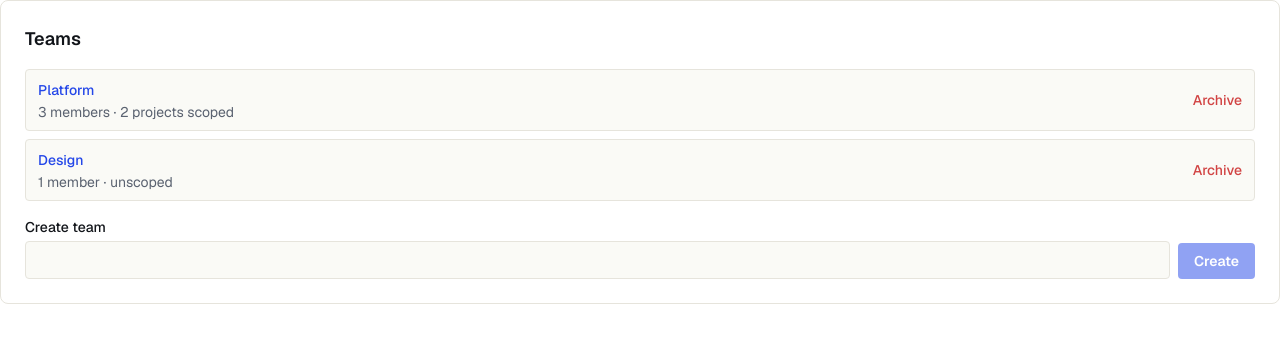
Scenario: TeamList › shows an inline error on a 409 duplicate-name failure without losing existing state
Type "Platform" into the field labelled "Create team" at (598, 260), box [25,241,1170,279]
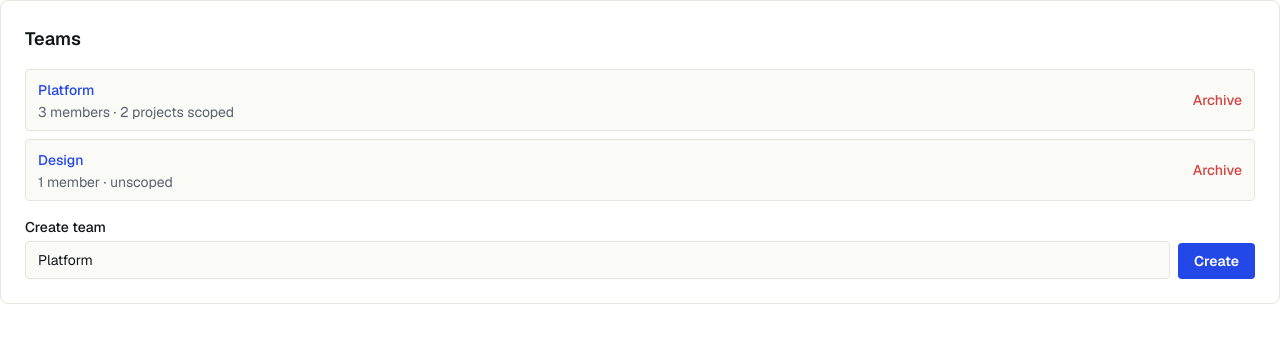
Click the button "Create" at (1216, 261), box [1178,243,1255,279]
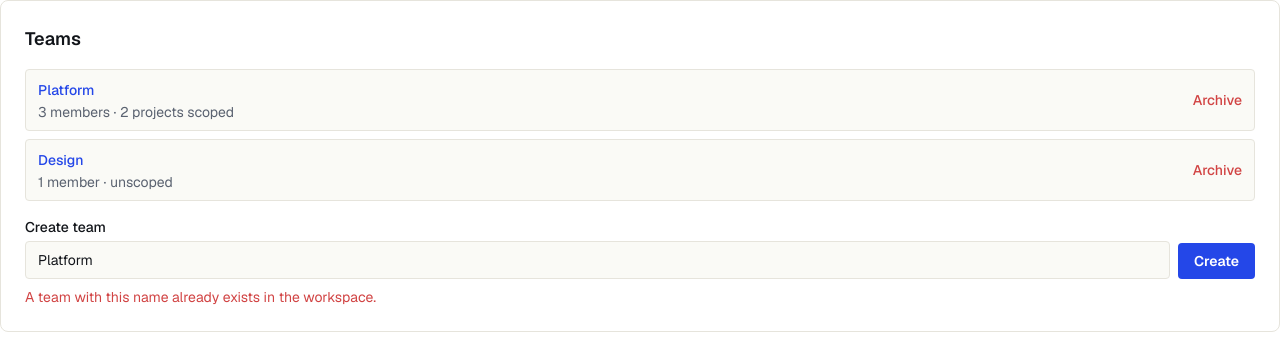
Check: the link "Platform" is shown, box [38,81,94,99]
Check: the text "A team with this name already exists in the workspace." is shown, box [25,288,376,306]
